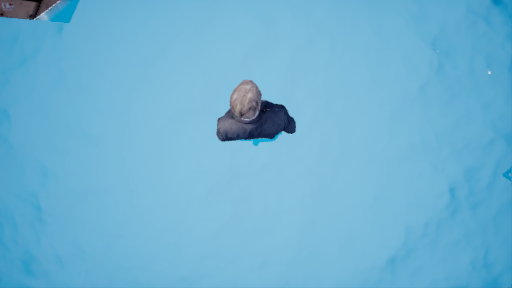person: (216, 79, 302, 148)
